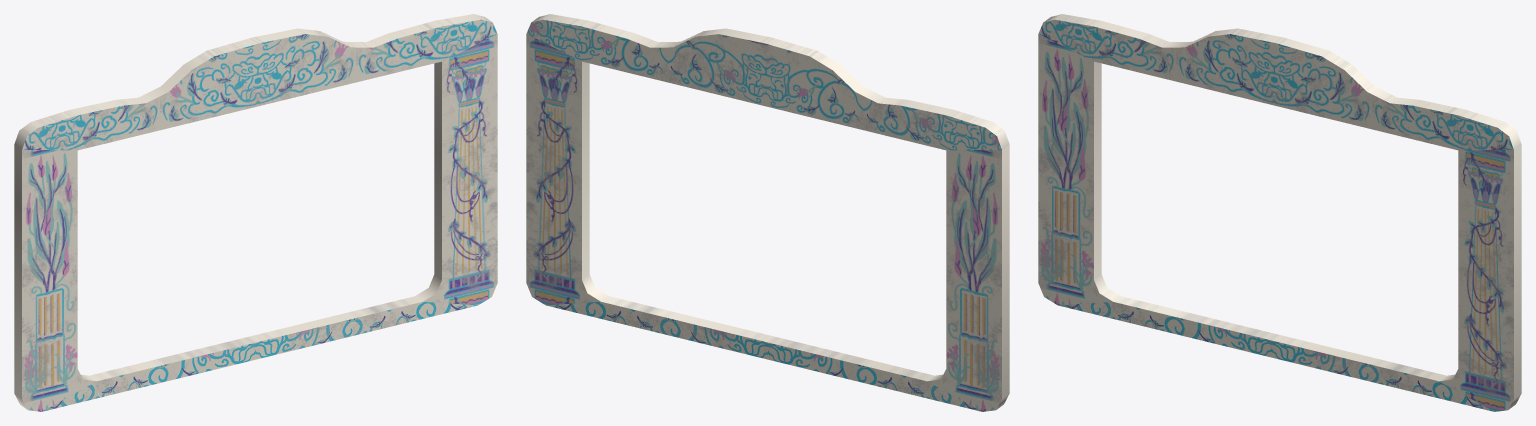
File: Structure_Vapor_Frame_Old_Art.fbx
3 renders of one model, left to right at view 1: azimuth 30°, elevation 25°; view 2: azimuth 150°, elevation 25°; view 3: azimuth 330°, elevation 25°, orthographic.
Visible parts, largest first — view 1: Structure_Vapor_Frame_Old_Art; view 2: Structure_Vapor_Frame_Old_Art; view 3: Structure_Vapor_Frame_Old_Art.
Part boxes in pixels (x1=…): Structure_Vapor_Frame_Old_Art: x1=14, y1=14, x2=497, y2=411; Structure_Vapor_Frame_Old_Art: x1=526, y1=14, x2=1009, y2=411; Structure_Vapor_Frame_Old_Art: x1=1038, y1=14, x2=1521, y2=411.
Bounding box in the file's own units: 4.88 × 3.09 × 0.1371.
